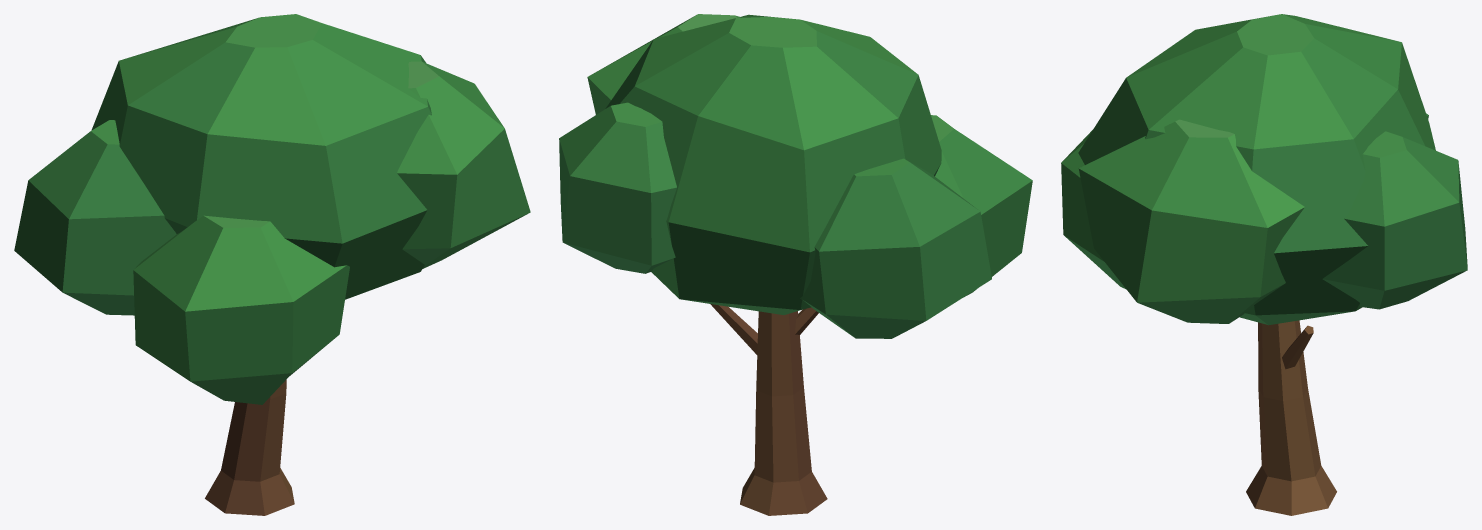
File: tree.glb
The picture shows the model from 3 angles, left to right: view 1: azimuth 30°, elevation 25°; view 2: azimuth 150°, elevation 25°; view 3: azimuth 270°, elevation 25°; orthographic projection. The views are drawn at different scales.
Parts seen in each view (by area): view 1: tree; view 2: tree; view 3: tree.
Boxes of the visible parts, box(x1,y1,x2,y2) form: tree: box(14, 14, 530, 515); tree: box(559, 14, 1032, 515); tree: box(1061, 14, 1467, 515).
Size of the model in its own units: 4.7 by 5.09 by 3.99.
